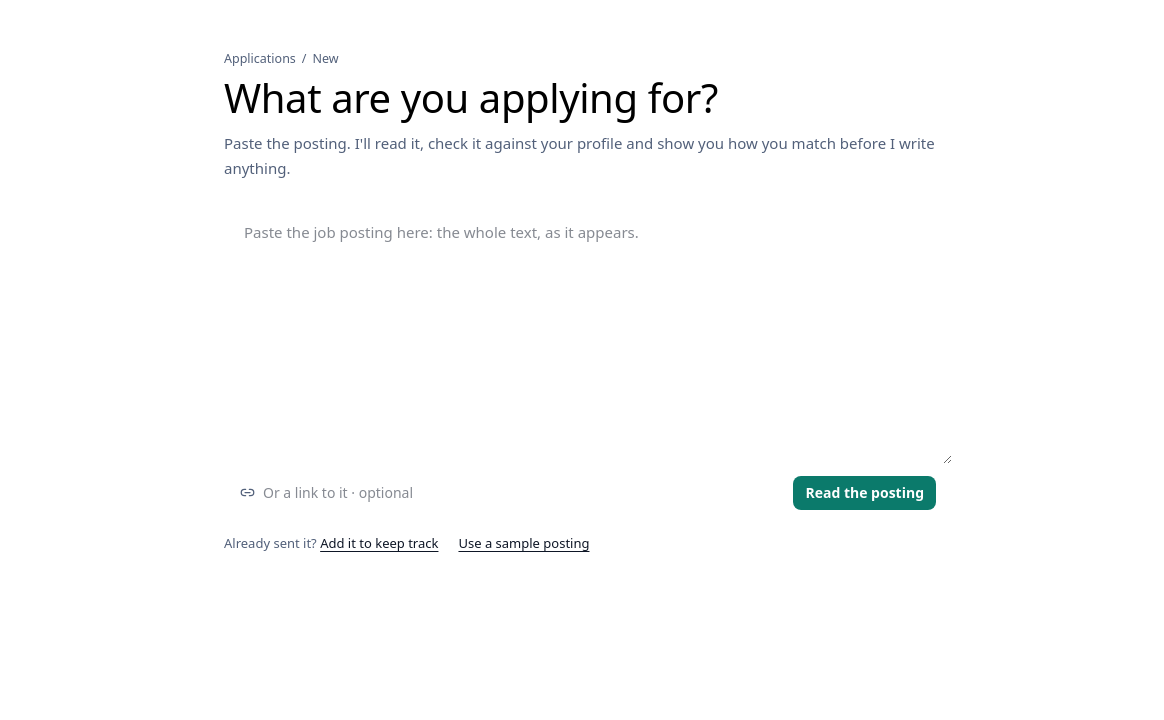
the reading step (E7-2) › shows the job's own steps as they happen
Type "Ledgerly is hiring." into the text box labelled "job posting" at (588, 334), box [224,204,952,464]
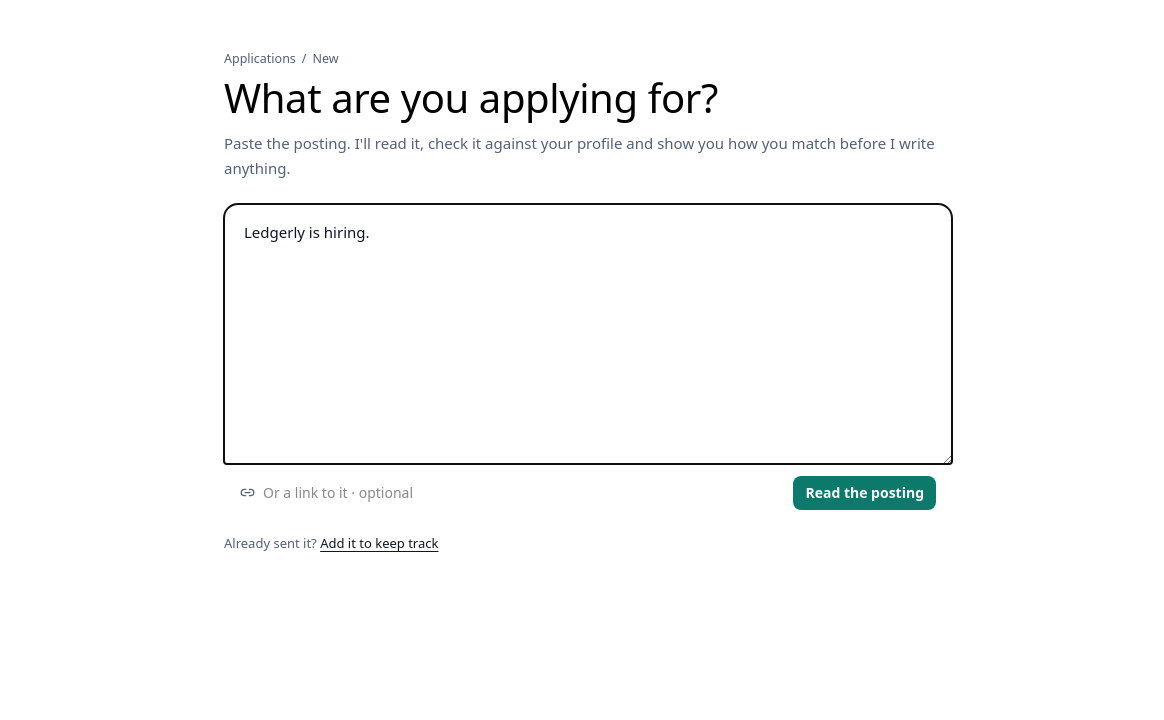
Click the button "Read the posting" at (865, 493), box [793,476,936,510]
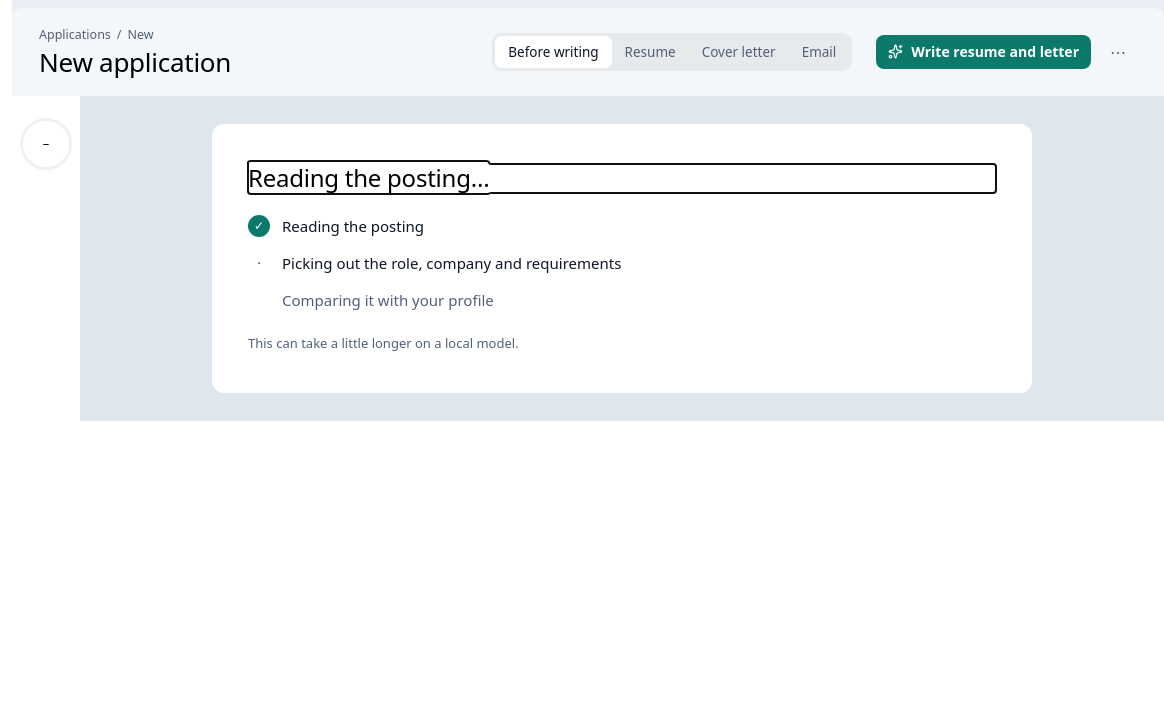
Expected: the heading "Reading the posting…" is shown, [248,161,489,194]
Expected: the text "This can take a little longer on a local model." is shown, [248,334,519,352]
